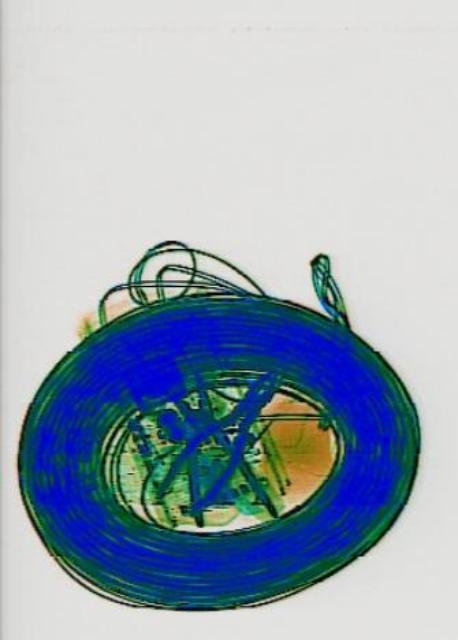Pliers: (148, 343, 288, 532), (148, 352, 276, 554)
